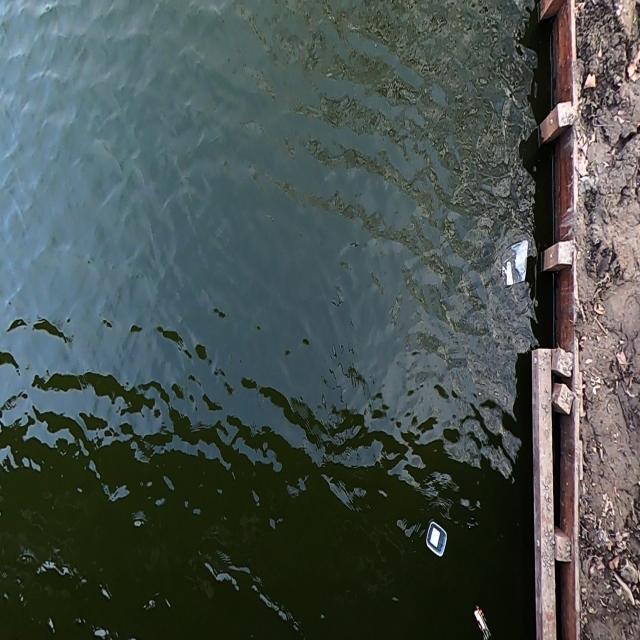Autre plastique: (422, 515, 452, 565)
Sac plastique: (494, 227, 532, 295)
